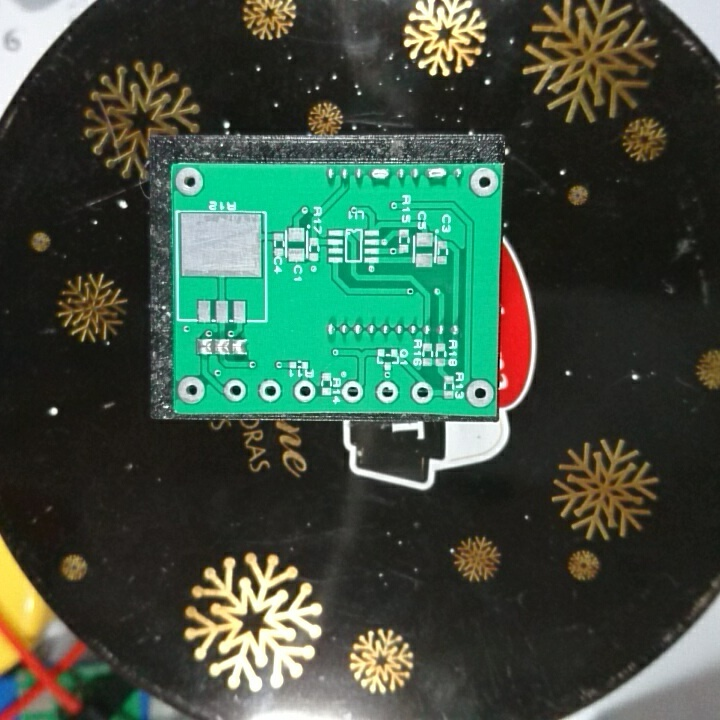F: (173, 164, 204, 197), (470, 166, 499, 201), (465, 377, 495, 409), (175, 375, 206, 403), (221, 377, 249, 404), (257, 377, 282, 406), (410, 378, 435, 406), (374, 378, 402, 403), (341, 378, 366, 404), (292, 378, 317, 403)
P: (424, 163, 448, 184), (367, 166, 394, 183)
